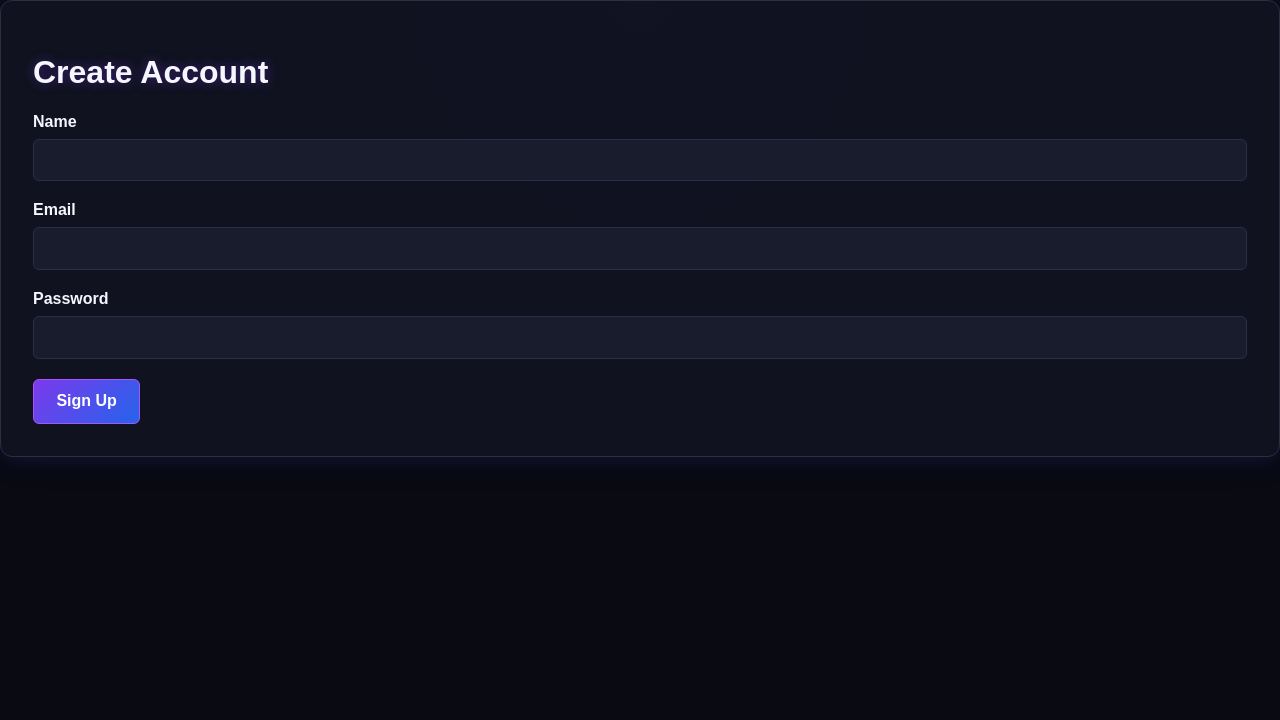
Test: SignupForm › shows an error for an invalid email
Type "Alice" into the field labelled "Name" at point(640, 160), box [33,139,1247,182]
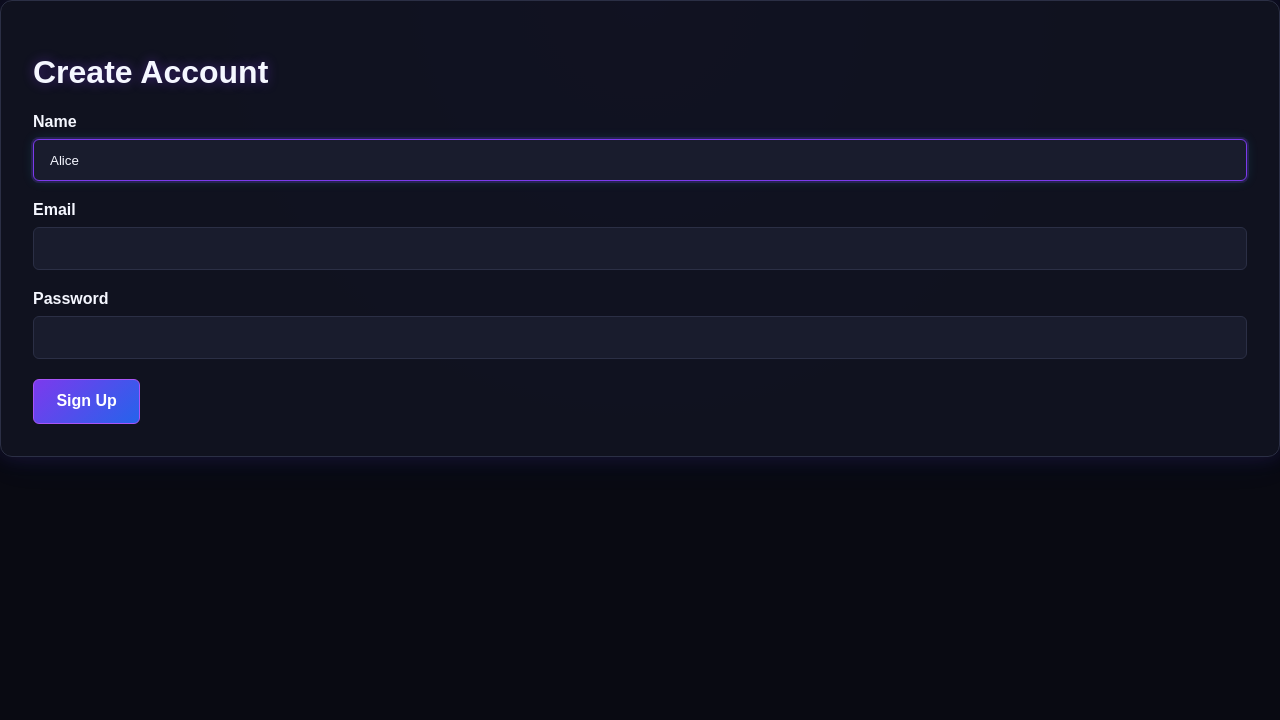
Type "not-an-email" into the field labelled "Email" at point(640, 249), box [33,228,1247,270]
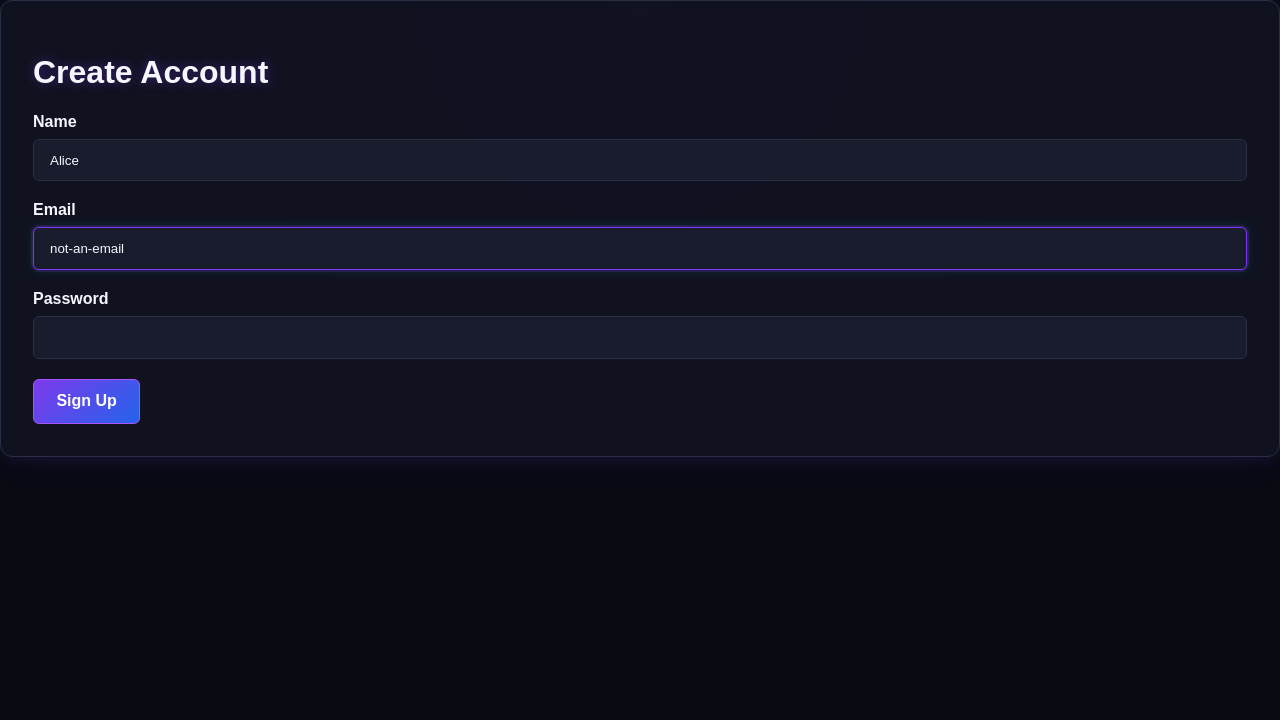
Type "password123" into the password field labelled "Password" at point(640, 337), box [33,316,1247,359]
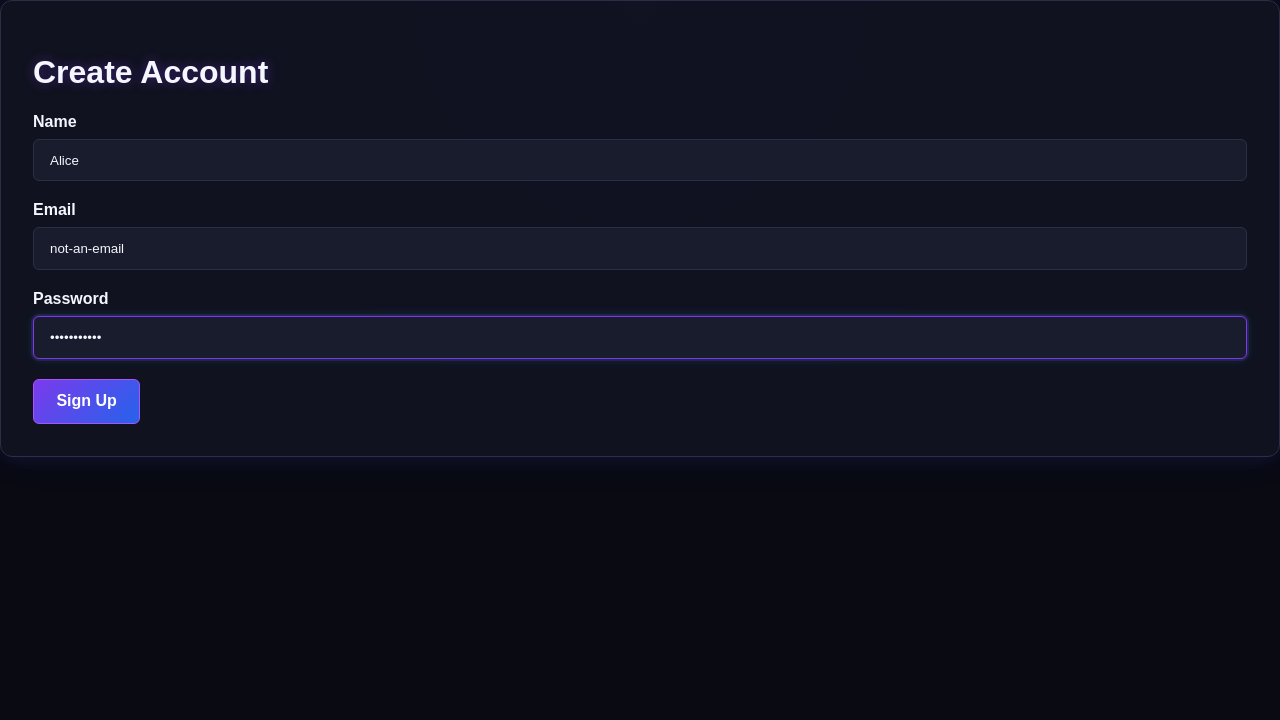
Click the button "Sign Up" at point(87, 402), box [33,379,140,424]
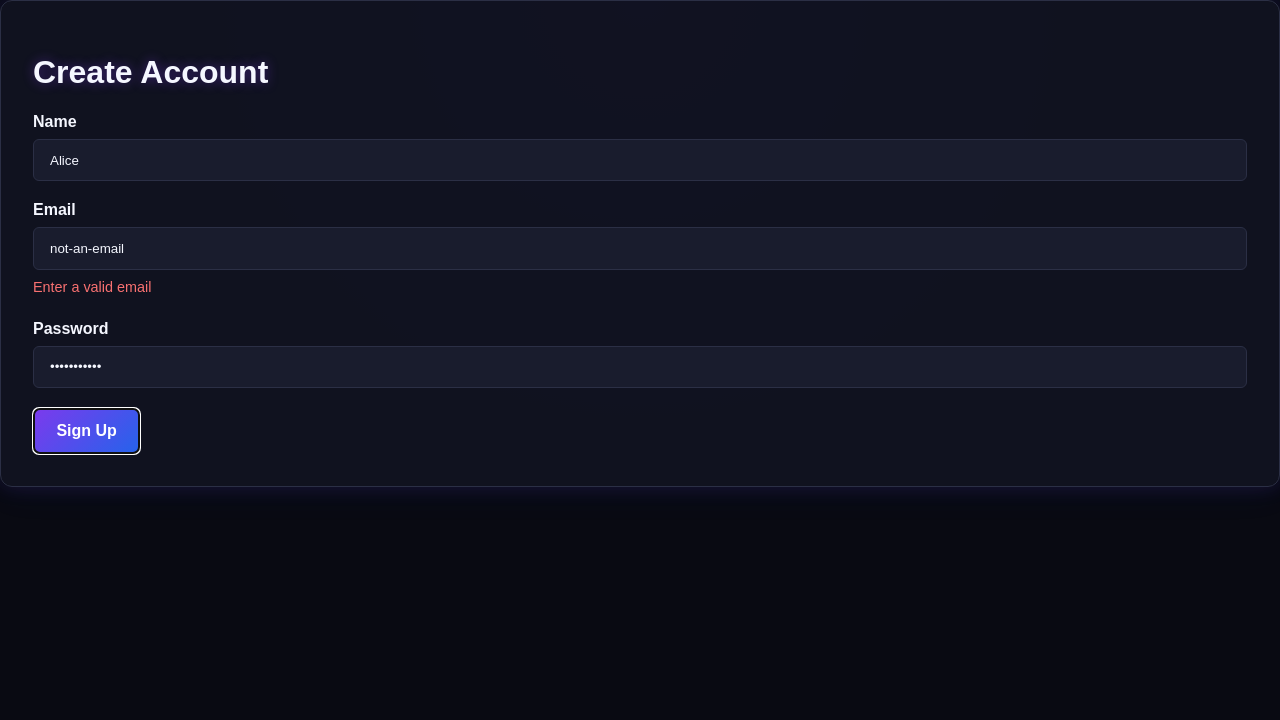
Check: the text "Enter a valid email" is shown, box [33,280,151,296]
